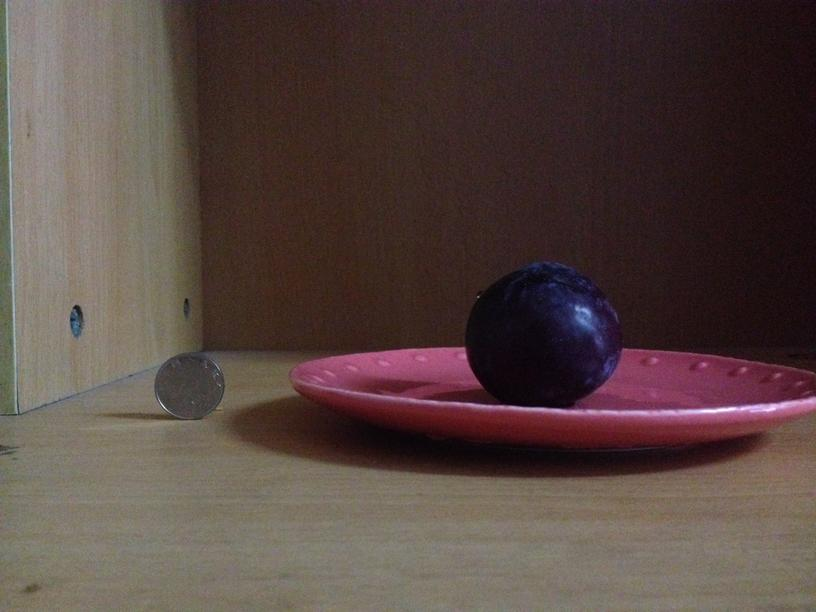coin: (146, 353, 225, 422)
plum: (467, 267, 619, 404)
